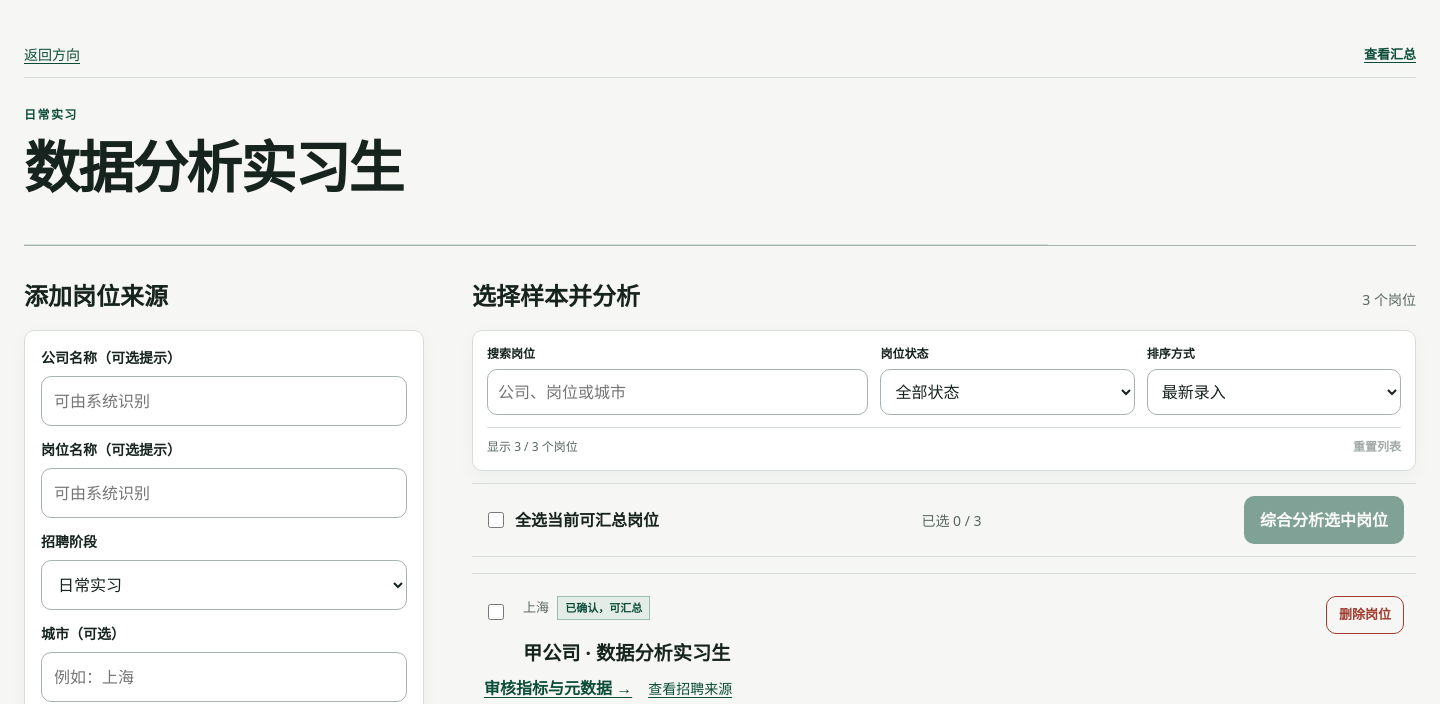
JobPostingDashboard › selects arbitrary confirmed jobs and submits only those ids
Expected: the heading "甲公司 · 数据分析实习生" is shown, left=523, top=639, right=730, bottom=666
Step 1. Click the 1st checkbox named "选择 甲公司 · 数据分析实习生" → (496, 612), box left=488, top=604, right=504, bottom=620
(page scrolled)
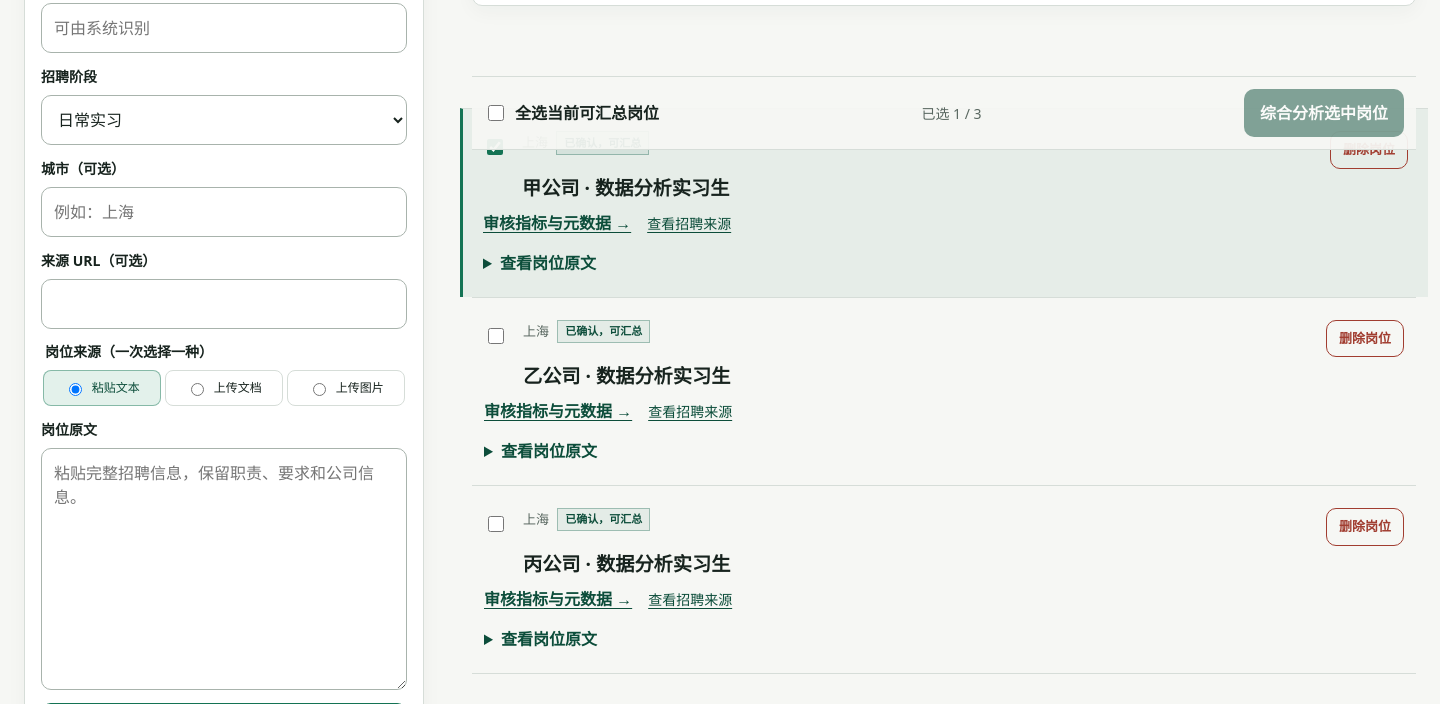
Step 2. Click the 2nd checkbox named "选择 丙公司 · 数据分析实习生" → (496, 524), box left=488, top=516, right=504, bottom=532
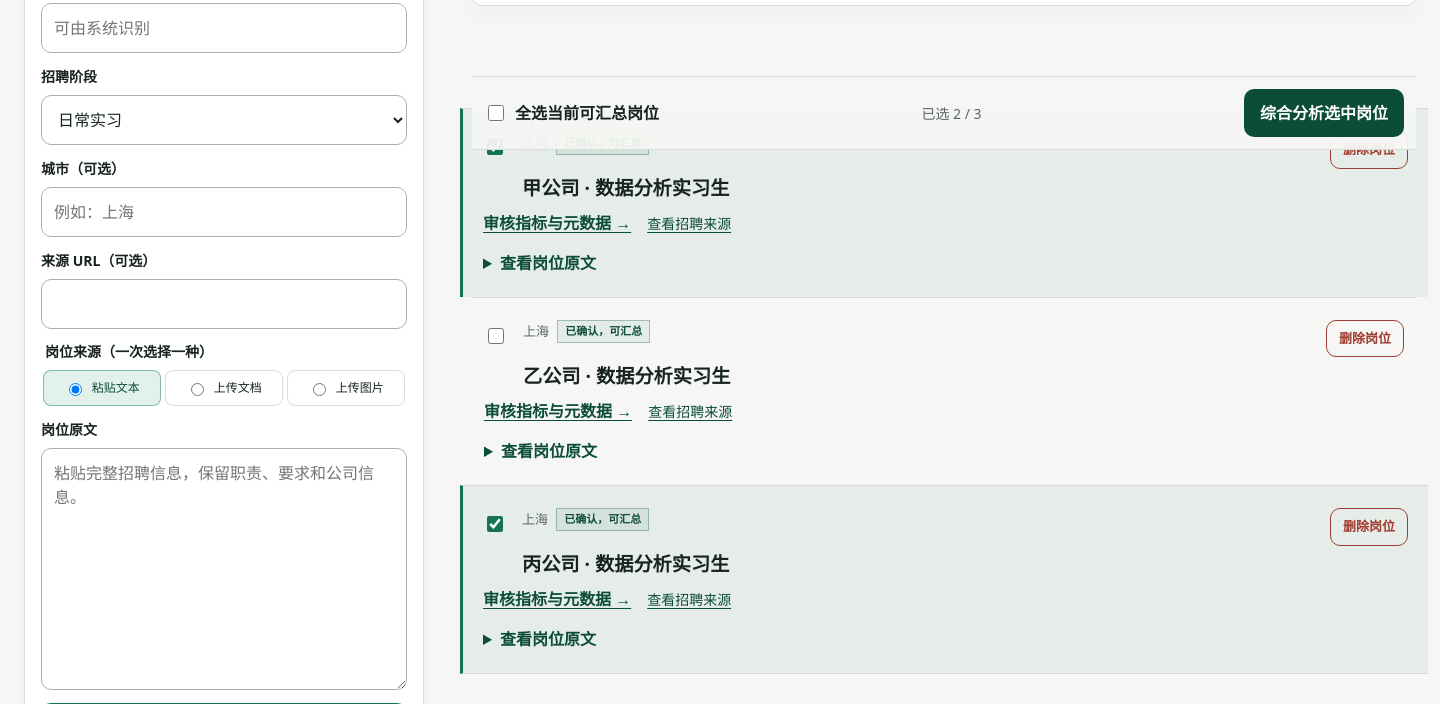
Step 3. Click the button "综合分析选中岗位" → (1324, 113), box left=1244, top=89, right=1404, bottom=137
(page scrolled)
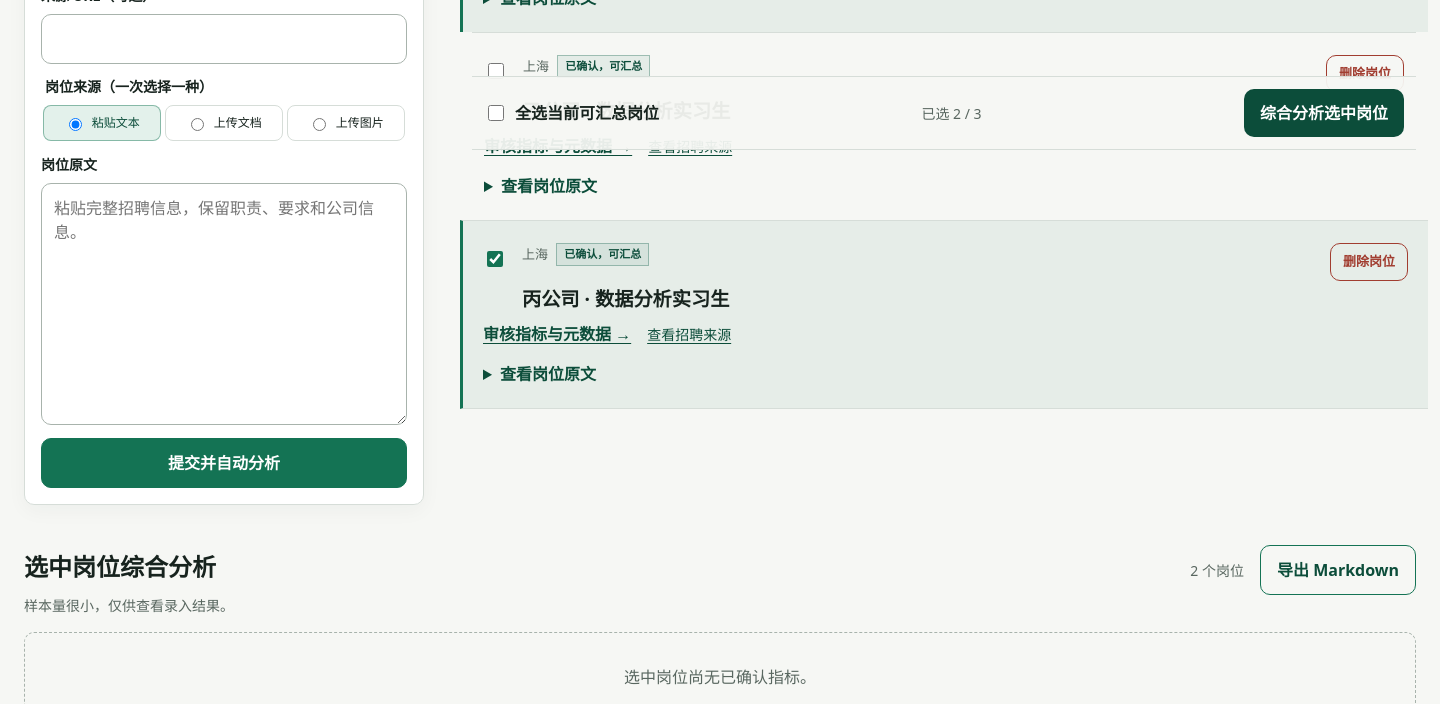
Expected: the heading "选中岗位综合分析" is shown, left=24, top=548, right=216, bottom=584
